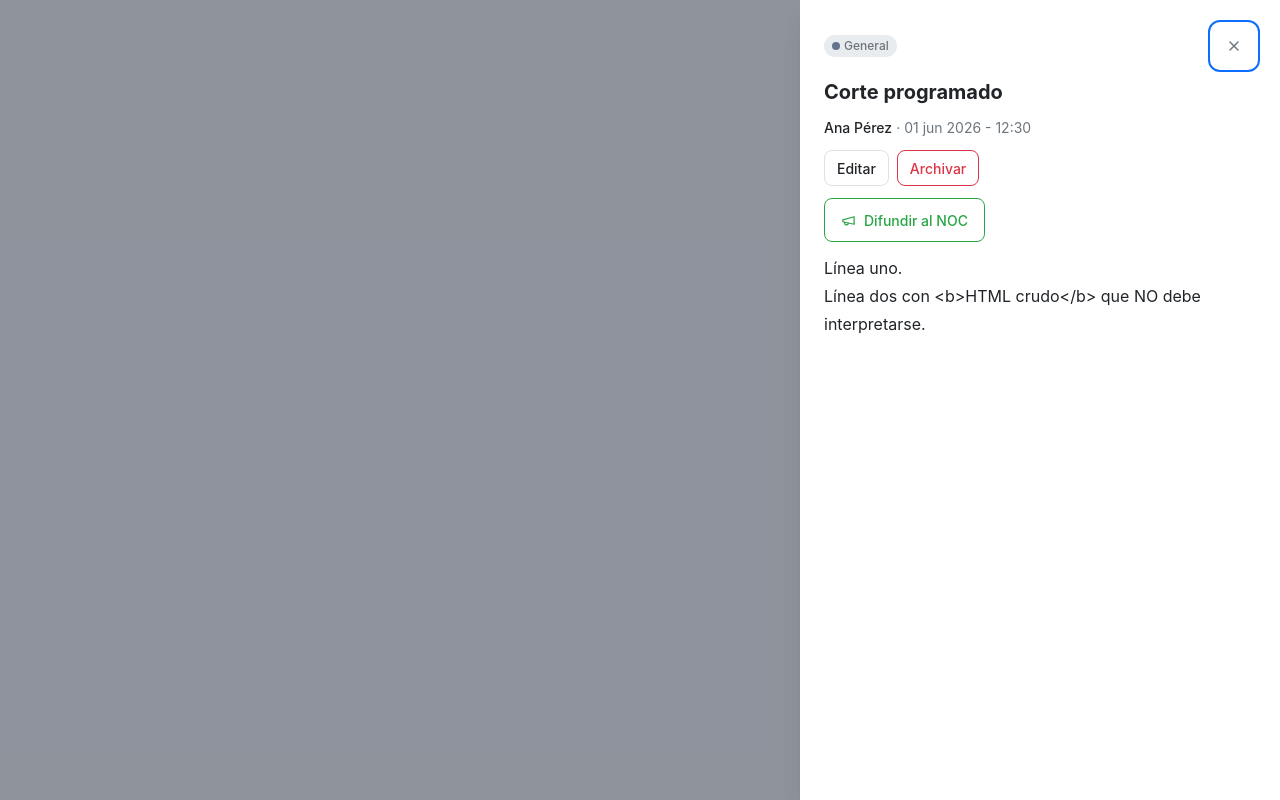
Test case: NewsDetailDrawer — manage actions (M3: editar/archivar wiring) › shows a visible error and keeps the drawer open when archiving fails
Click the button "Archivar".
click(938, 168)  # box x1=897 y1=150 x2=979 y2=186
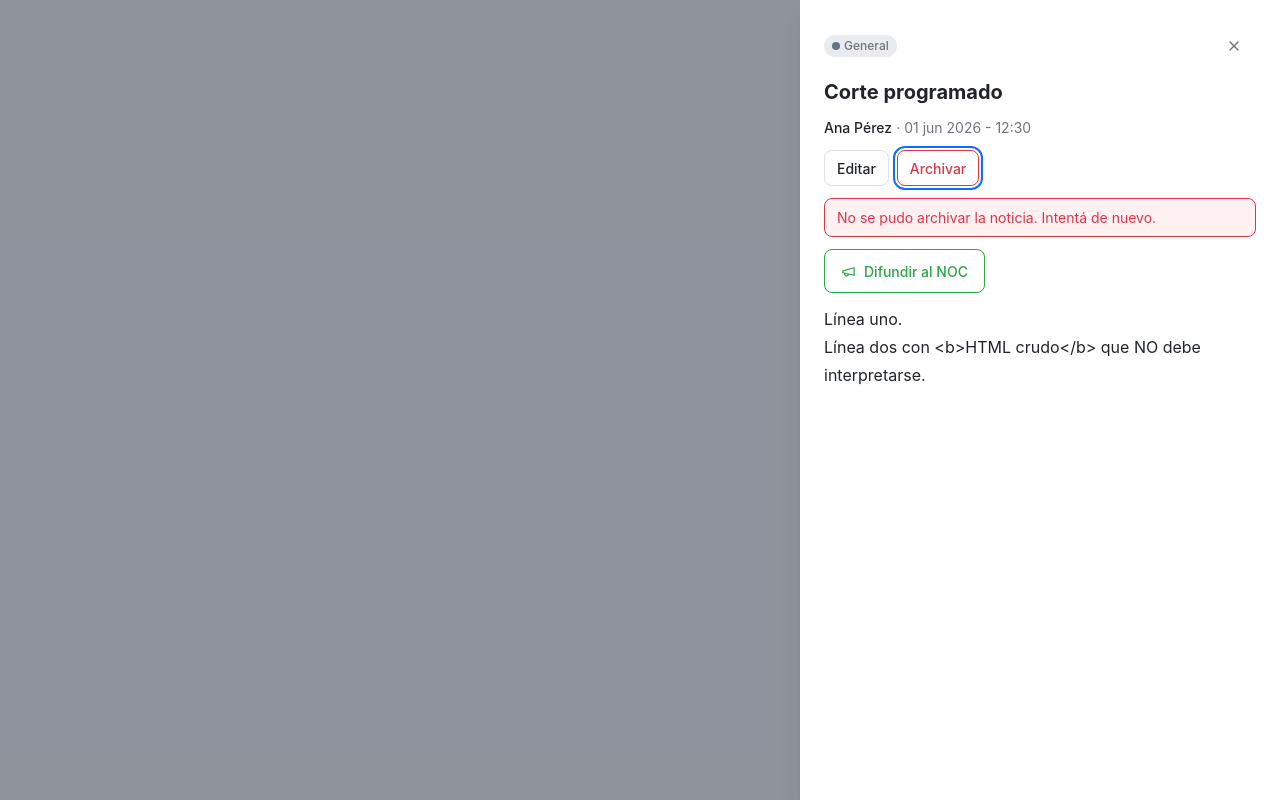
Expected: the dialog is shown, x1=800 y1=0 x2=1279 y2=799
Result: the message shows "No se pudo" at x1=837 y1=209 x2=1156 y2=226
